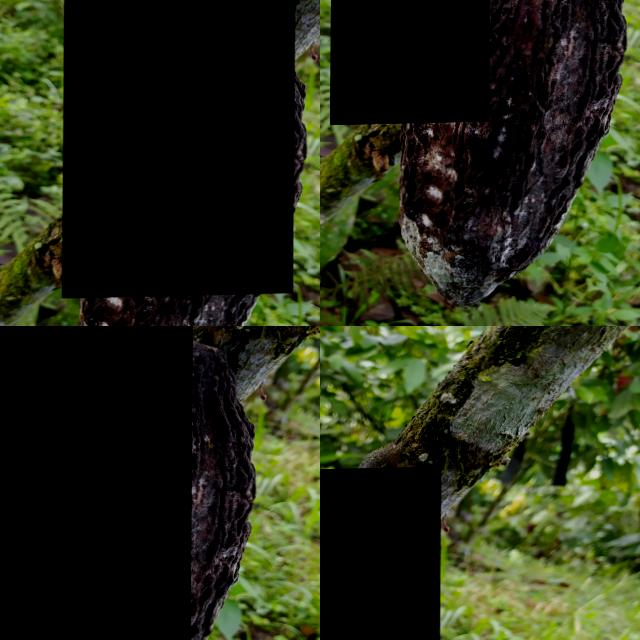Fitoftora: (63, 0, 295, 298), (320, 468, 441, 640), (330, 0, 491, 125)
Monilia: (0, 326, 193, 640)
